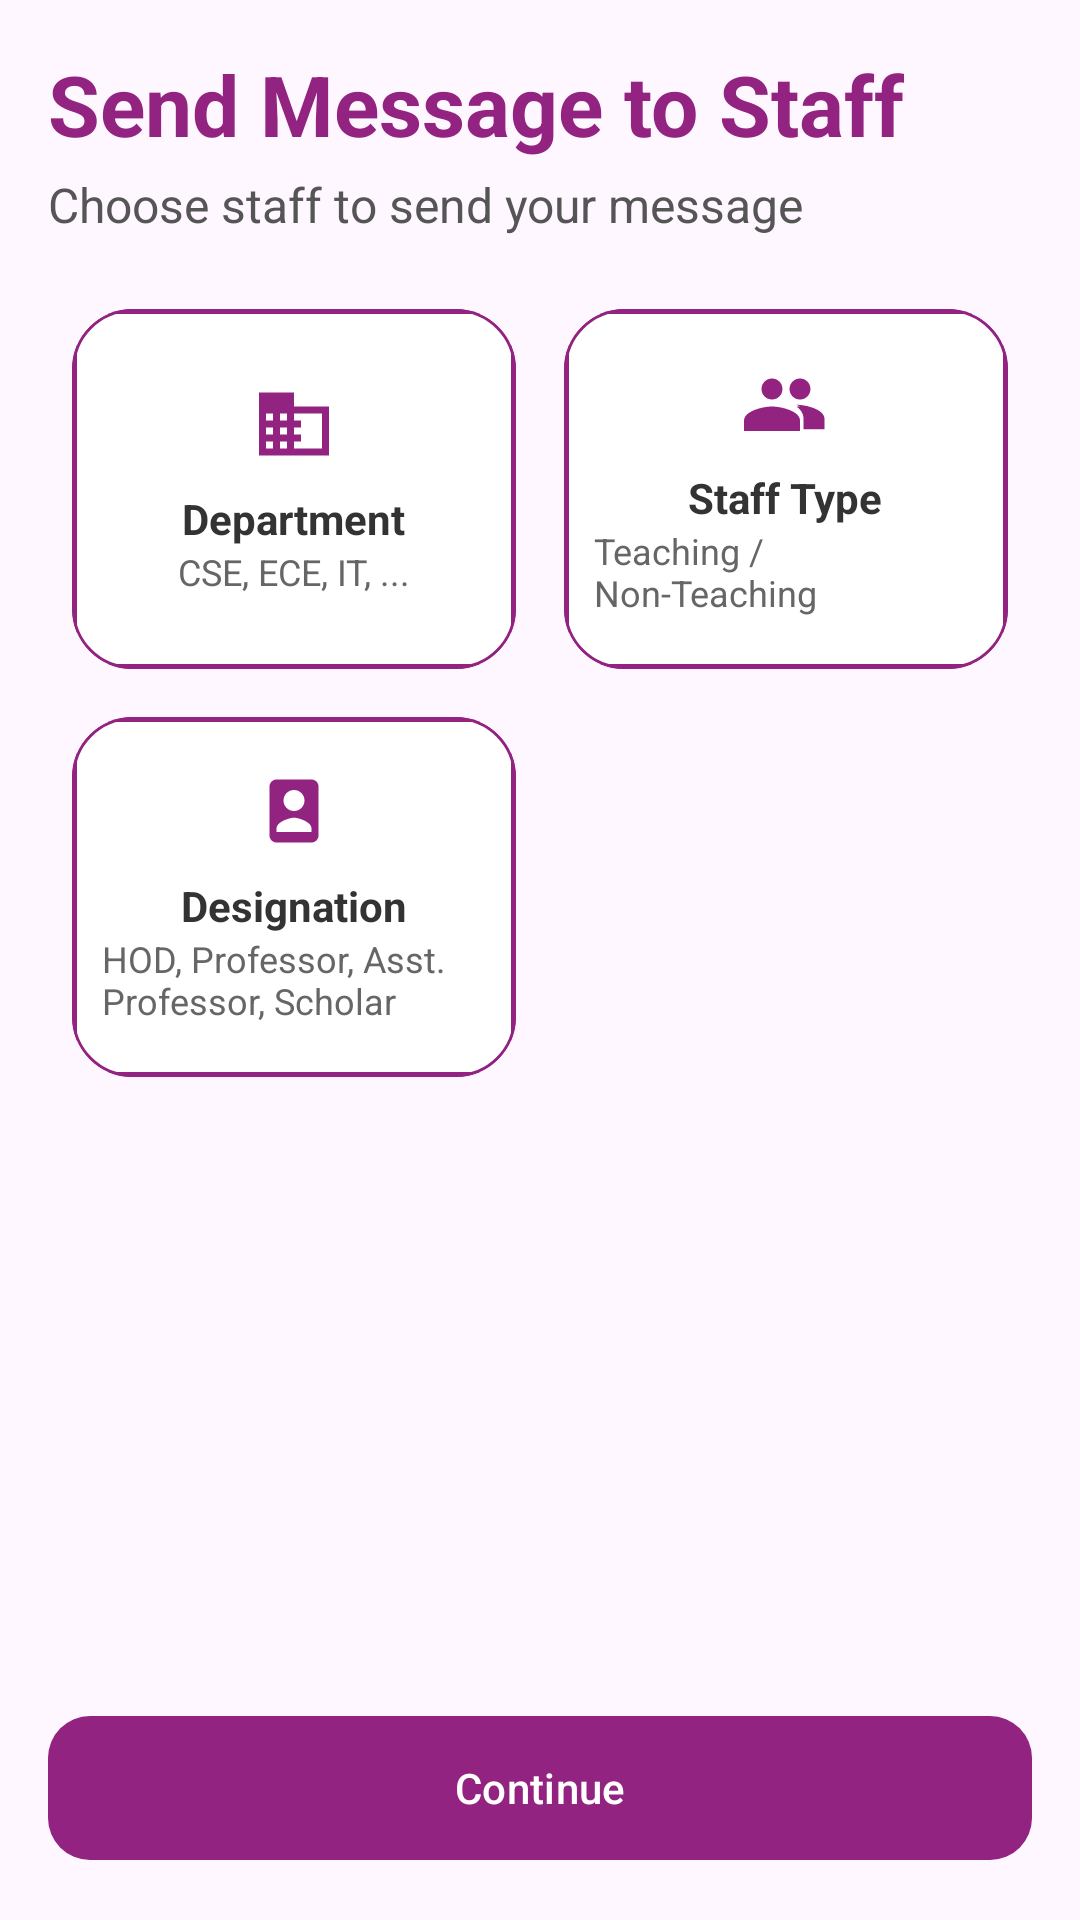

Icons on this 1080 × 1920 Android screen, each with the point to tap as point (x, y):
domain: point (294, 424)
people: point (784, 404)
